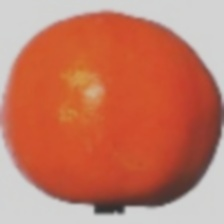tangerine: (25, 48, 166, 217)
